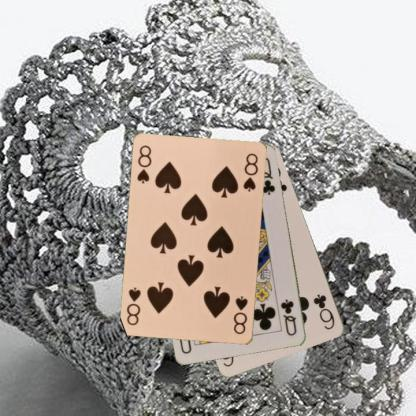6c: (310, 291, 336, 331)
8s: (134, 143, 154, 185), (231, 294, 249, 336)
Qc: (278, 297, 298, 337)
